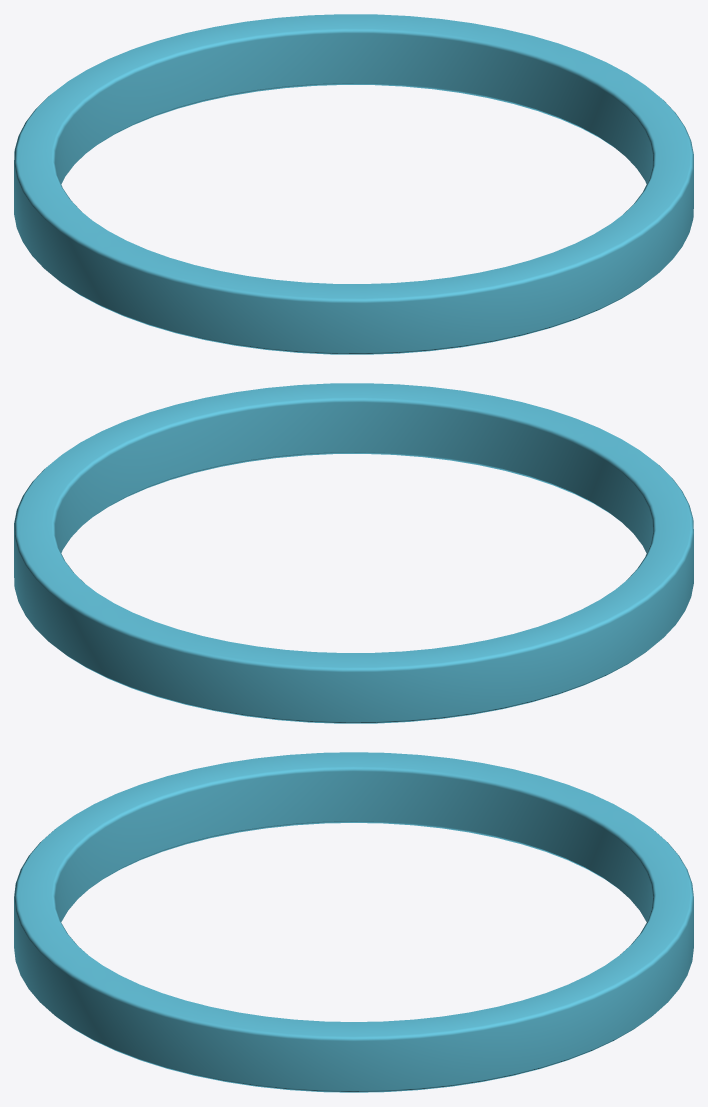
3 renders of one model, top to bottom at view 1: azimuth 30°, elevation 25°; view 2: azimuth 150°, elevation 25°; view 3: azimuth 270°, elevation 25°, orthographic.
Parts seen in each view (by area): view 1: seal_body; view 2: seal_body; view 3: seal_body.
Boxes of the visible parts, x1,y1,x2,y2 form: seal_body: [14, 14, 693, 354]; seal_body: [14, 383, 693, 723]; seal_body: [14, 752, 693, 1092].
Bounding box in the file's own units: 0.1735 × 0.0159 × 0.1735.
